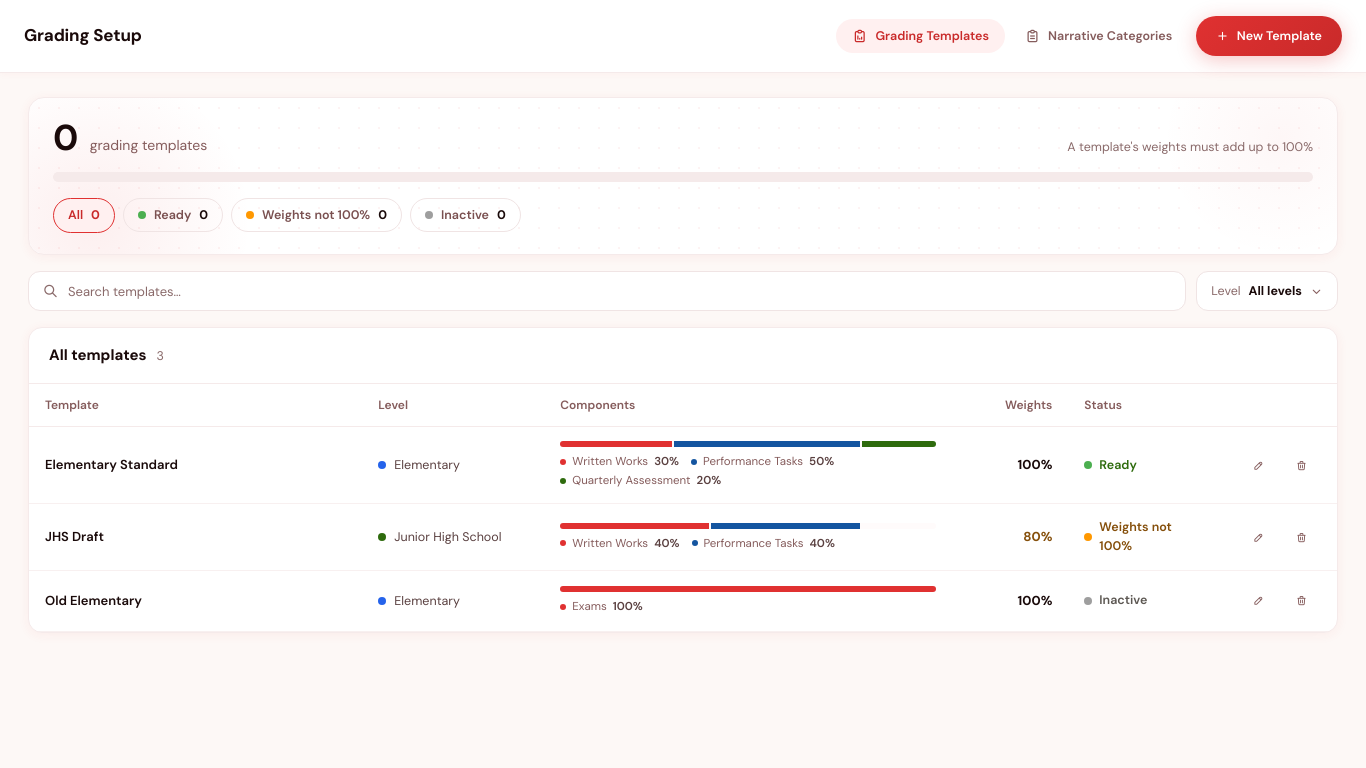
Test: Grading setup — templates › opens a template to edit from its row
What coordinates should you click on to do the following:
click the button "JHS Draft"
I would click on:
 (74, 537)
Its box is [29,504,1337,570].
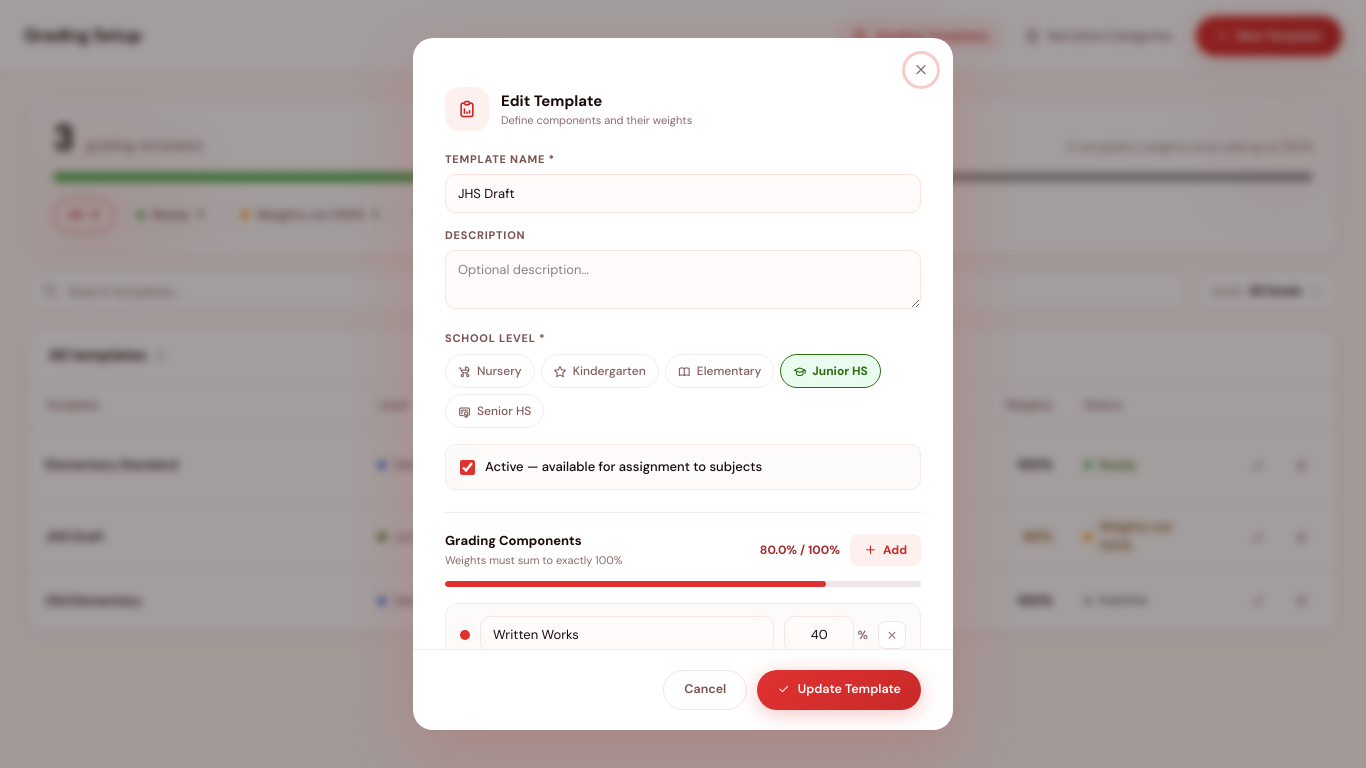
Expected: the button "Update Template" is shown, [757,670,921,710]
